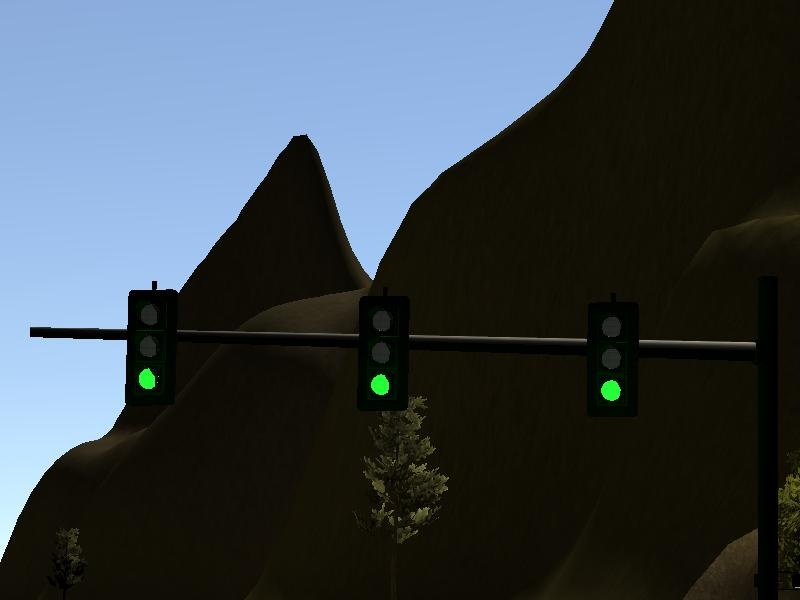green: (120, 272, 186, 419), (351, 282, 413, 418), (581, 296, 638, 426)
